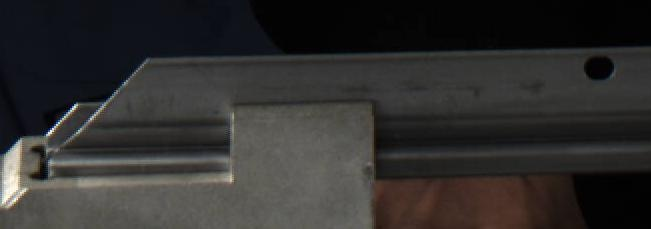cut: (38, 49, 180, 179)
holes: (581, 55, 616, 81)
